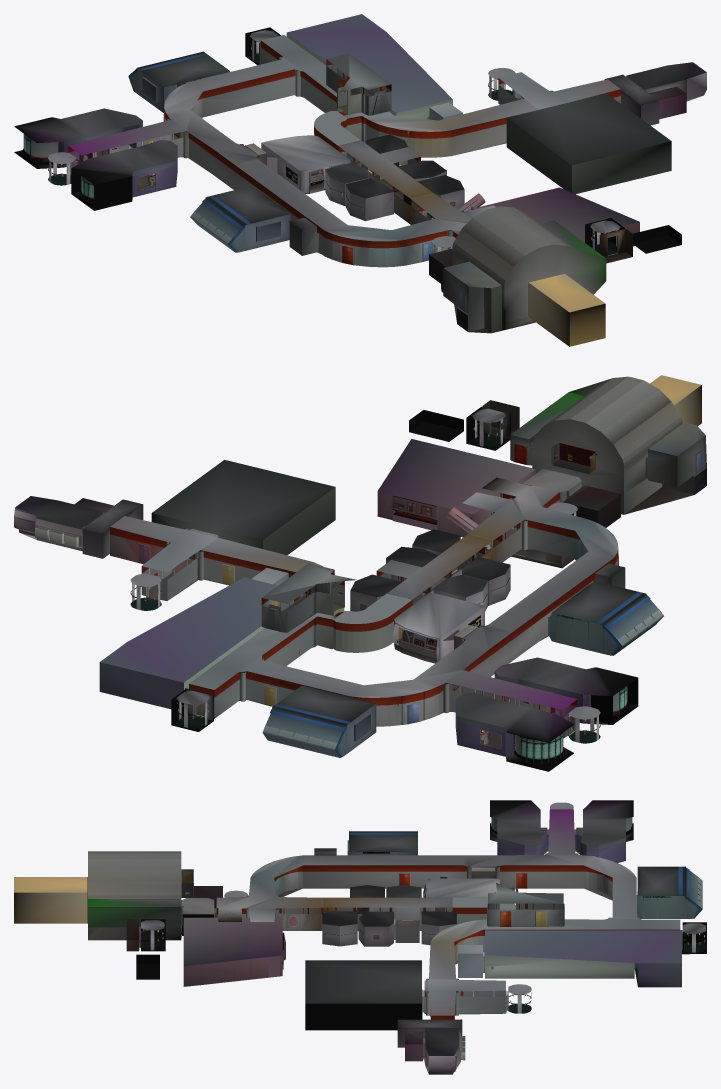
File: aedeck7.glb
3 views of the same model, one above another, from view 1: azimuth 30°, elevation 25°; view 2: azimuth 150°, elevation 25°; view 3: azimuth 270°, elevation 25° (orthographic). The views are drawn at different scales.
Visible parts, largest first — view 1: textures_scavenger_c_wall_nearblack, textures_tos_w1, textures_tos_floorgrey, textures_tos_engine, textures_tos_briefwall, textures_scavenger_c_wall_turbo, textures_tos_corrupper, textures_scavenger_c_transwall_symbollight, COPY_comproom, COPY_chapel, textures_tos_transwall, textures_tos_ent_floor (+5 smaller); view 2: textures_scavenger_c_wall_nearblack, textures_tos_floorgrey, textures_tos_w1, textures_tos_engine, textures_tos_briefwall, COPY_comproom, COPY_chapel, textures_scavenger_c_wall_turbo, textures_tos_corrupper, textures_tos_ent_floor, textures_tos_transwall, textures_scavenger_c_transwall_symbollight (+7 smaller); view 3: textures_scavenger_c_wall_nearblack, textures_tos_floorgrey, textures_tos_w1, textures_tos_briefwall, textures_tos_engine, COPY_comproom, textures_scavenger_c_transwall_symbollight, textures_scavenger_c_wall_turbo, COPY_chapel, textures_scavenger_c_wall_nearwhite, textures_tos_corrupper, textures_tos_transwall (+3 smaller).
Boxes of the visible parts, <box> form: textures_scavenger_c_wall_nearblack: <box>48,30,658,315</box>; textures_tos_w1: <box>22,27,681,292</box>; textures_tos_floorgrey: <box>14,62,706,313</box>; textures_tos_engine: <box>429,206,606,333</box>; textures_tos_briefwall: <box>190,14,452,252</box>; textures_scavenger_c_wall_turbo: <box>49,39,686,249</box>; textures_tos_corrupper: <box>26,40,620,248</box>; textures_scavenger_c_transwall_symbollight: <box>528,274,605,346</box>; COPY_comproom: <box>470,187,639,246</box>; COPY_chapel: <box>128,51,230,112</box>; textures_tos_transwall: <box>58,121,177,197</box>; textures_tos_ent_floor: <box>14,86,520,333</box>; textures_scavenger_c_wall_nearblack: <box>83,392,706,719</box>; textures_tos_floorgrey: <box>15,442,704,742</box>; textures_tos_w1: <box>85,400,629,767</box>; textures_tos_engine: <box>510,376,706,527</box>; textures_tos_briefwall: <box>99,577,663,708</box>; COPY_comproom: <box>377,439,535,535</box>; COPY_chapel: <box>262,685,376,757</box>; textures_scavenger_c_wall_turbo: <box>82,419,663,742</box>; textures_tos_corrupper: <box>110,492,624,762</box>; textures_tos_ent_floor: <box>122,487,693,771</box>; textures_tos_transwall: <box>455,671,588,756</box>; textures_scavenger_c_transwall_symbollight: <box>650,375,701,425</box>; textures_scavenger_c_wall_nearblack: <box>88,802,705,1027</box>; textures_tos_floorgrey: <box>88,800,633,1055</box>; textures_tos_w1: <box>126,817,706,1030</box>; textures_tos_briefwall: <box>347,840,683,987</box>; textures_tos_engine: <box>87,851,216,931</box>; COPY_comproom: <box>183,917,287,986</box>; textures_scavenger_c_transwall_symbollight: <box>14,877,214,935</box>; textures_scavenger_c_wall_turbo: <box>150,810,695,1061</box>; COPY_chapel: <box>637,866,702,918</box>; textures_scavenger_c_wall_nearwhite: <box>485,955,634,978</box>; textures_tos_corrupper: <box>216,828,679,1019</box>; textures_tos_transwall: <box>497,834,625,862</box>.
Size of what is drawn, in the model's own units: 85.02 by 14.4 by 97.92.
Materials: 251 (205 with a texture image).
